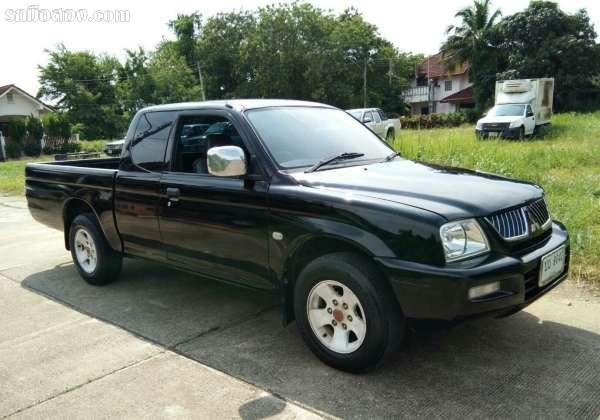pickup: (20, 95, 572, 374)
